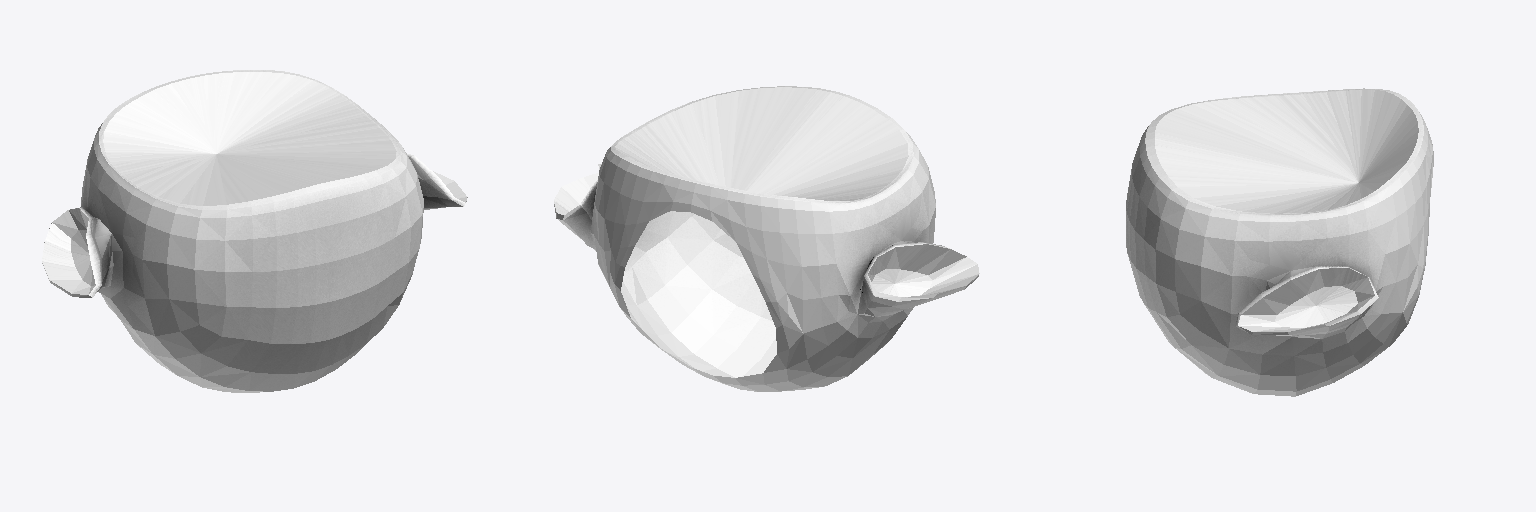
3 renders of one model, left to right at view 1: azimuth 30°, elevation 25°; view 2: azimuth 150°, elevation 25°; view 3: azimuth 270°, elevation 25°, orthographic.
Parts seen in each view (by area): view 1: tellyHead_Plane.001; view 2: tellyHead_Plane.001; view 3: tellyHead_Plane.001.
Boxes of the visible parts, x1,y1,x2,y2 form: tellyHead_Plane.001: [42, 70, 467, 392]; tellyHead_Plane.001: [554, 86, 979, 391]; tellyHead_Plane.001: [1126, 88, 1433, 396].
Bounding box in the file's own units: 0.2857 × 0.1696 × 0.1881.
Materials: 1 (1 with a texture image).